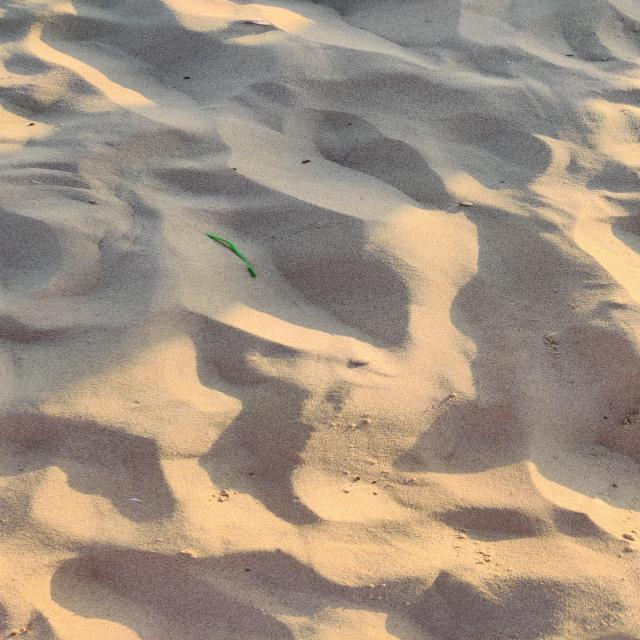litter: (205, 233, 258, 277)
